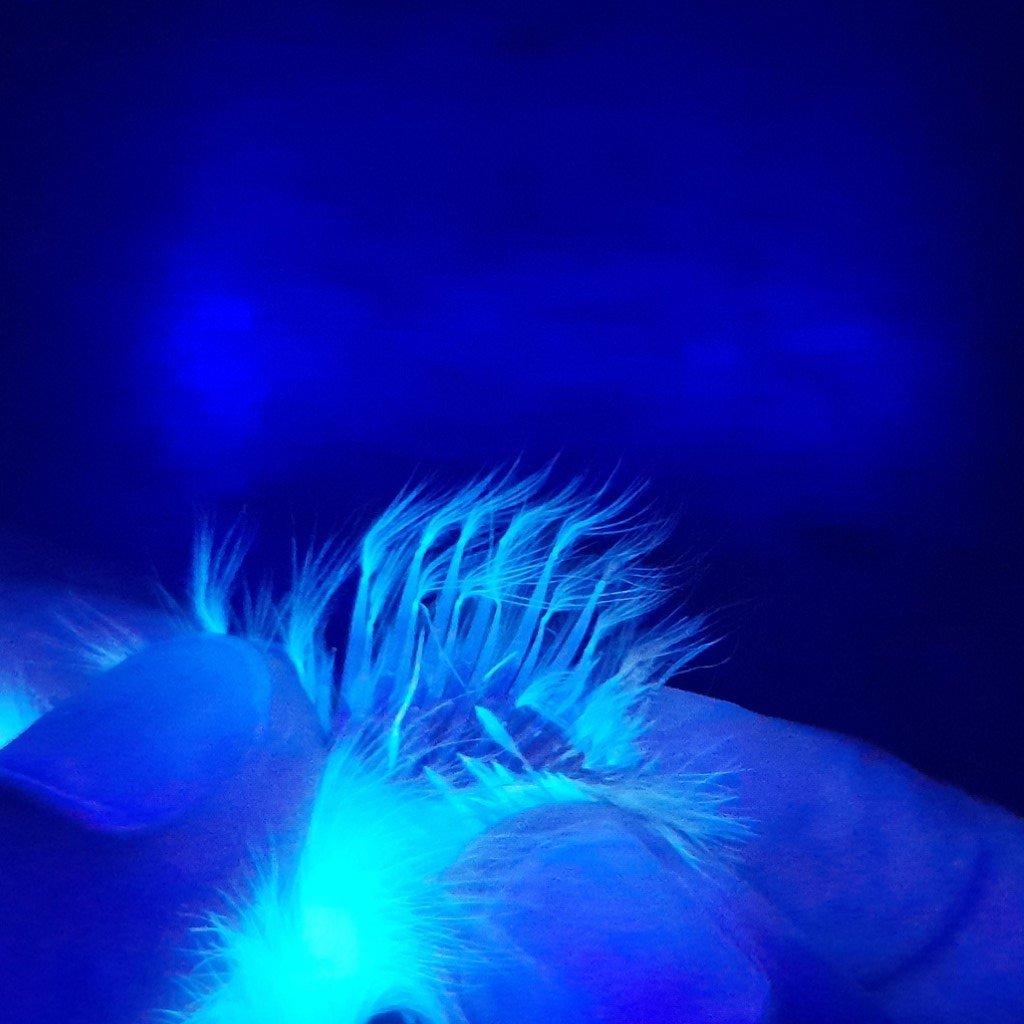female: (318, 527, 641, 832)
